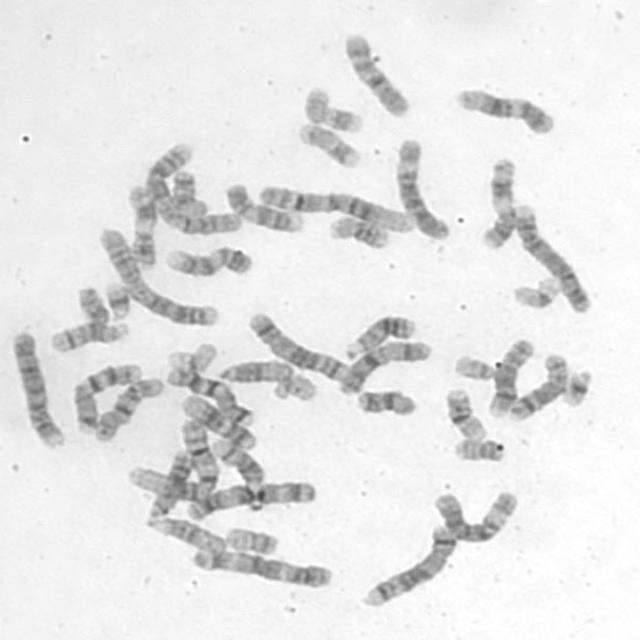A1: (251, 177, 418, 235), (123, 416, 221, 503)
A2: (91, 222, 222, 327), (139, 136, 245, 236)
A3: (185, 542, 334, 590), (180, 475, 320, 522)
B4: (508, 197, 594, 315), (4, 323, 66, 450)
B5: (354, 518, 459, 609), (241, 305, 351, 383)
C10: (336, 24, 412, 119), (87, 370, 165, 443)
C11: (474, 151, 519, 251), (120, 178, 158, 271)
C12: (448, 81, 557, 136), (173, 386, 260, 452)
C6: (388, 131, 452, 241), (427, 482, 521, 544)
C7: (161, 362, 256, 427), (66, 356, 145, 434)
C8: (501, 346, 570, 423), (481, 332, 537, 419)
C9: (218, 176, 306, 234), (159, 239, 255, 278)
D13: (338, 307, 418, 361), (140, 445, 194, 523)
D14: (205, 433, 268, 490), (42, 316, 131, 353)
D15: (141, 511, 227, 554), (212, 354, 296, 384)
E16: (438, 382, 489, 442), (323, 208, 391, 251)
E17: (291, 116, 363, 170), (296, 80, 366, 135)
E18: (350, 382, 419, 418), (164, 163, 209, 218)
F19: (506, 270, 564, 311), (160, 337, 218, 374)
F20: (218, 519, 280, 556), (448, 432, 507, 464)
G21: (556, 362, 595, 408), (98, 276, 132, 322)
G22: (266, 368, 319, 402), (447, 348, 498, 382)
X: (330, 333, 433, 397)
